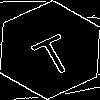T: (25, 25, 79, 79)
